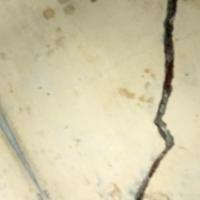crack: (125, 0, 189, 199)
